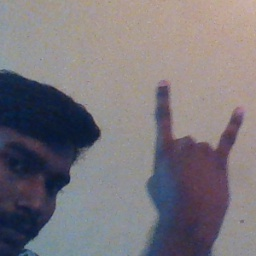V: (140, 75, 247, 230)
